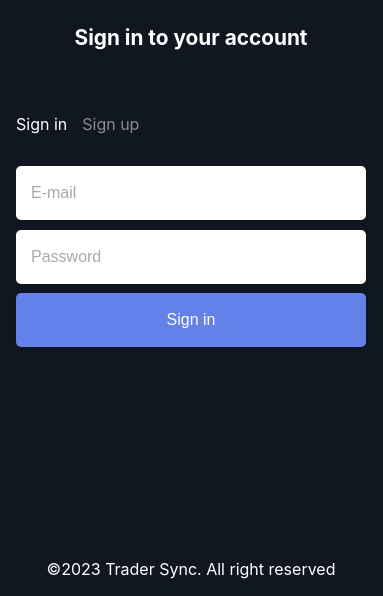
Scenario: show error message if fields are empty
Click the button with test id "sign-in-btn".
click(191, 320)  # box [16,293,366,347]
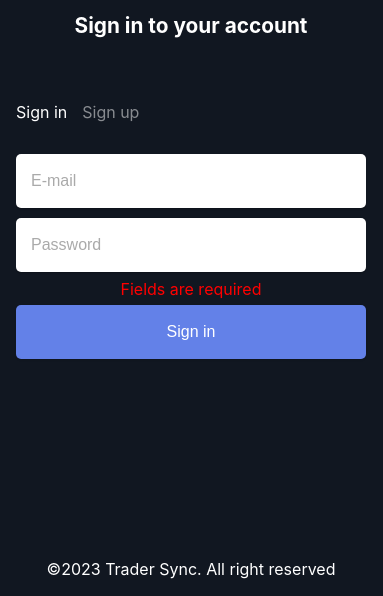
Expected: the text "Fields are required" is shown, [120,279,261,299]
